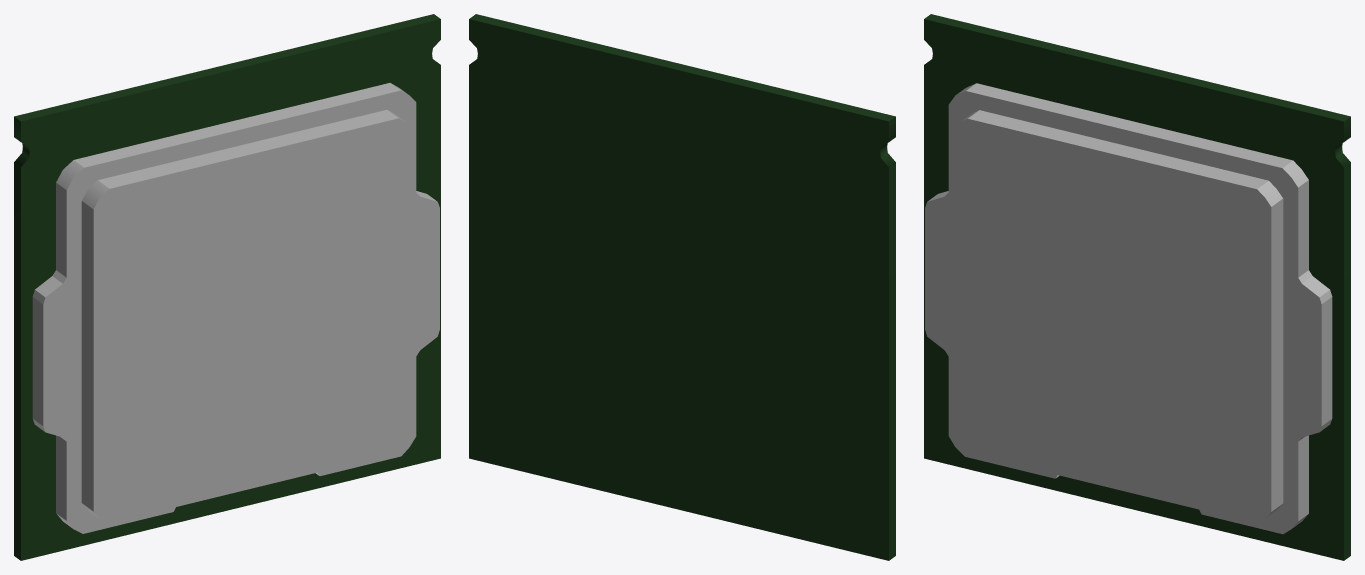
The model's file is processor.glb.
The picture shows the model from 3 angles, left to right: view 1: azimuth 30°, elevation 25°; view 2: azimuth 150°, elevation 25°; view 3: azimuth 330°, elevation 25°; orthographic projection.
Visible parts, largest first — view 1: pCube841, pCube840; view 2: pCube840; view 3: pCube841, pCube840.
Boxes of the visible parts, box(x1,y1,x2,y2) form: pCube841: box(32, 83, 439, 533); pCube840: box(14, 14, 440, 560); pCube840: box(469, 14, 895, 560); pCube841: box(925, 83, 1332, 534); pCube840: box(924, 14, 1350, 560).
Size of the model in its own units: 0.0112 by 0.0112 by 0.00136.
